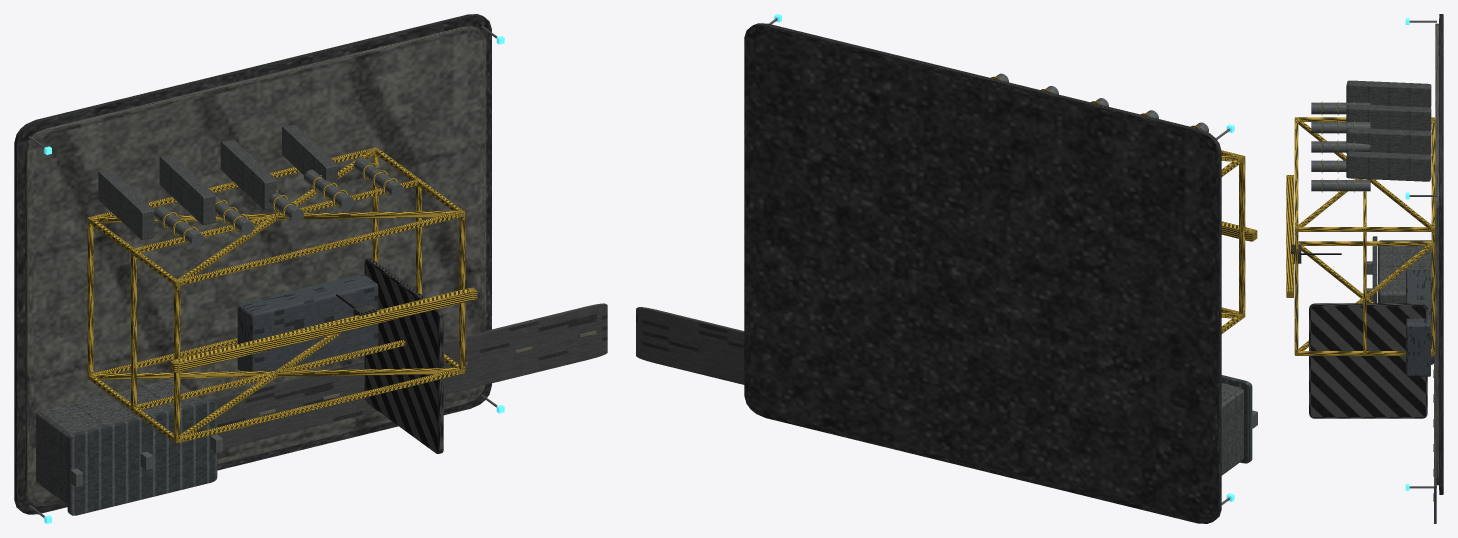
Rendered from b-15-vehicle-factory-lod0.glb.
3 renders of one model, left to right at view 1: azimuth 30°, elevation 25°; view 2: azimuth 150°, elevation 25°; view 3: azimuth 270°, elevation 25°, orthographic. The views are drawn at different scales.
Parts seen in each view (by area): view 1: foundation_inner_pad, factory_exit_road, foundation, parts_store_roof, factory_door, visible_vehicle_chassis, parts_store_main_hall, bridge_crane_bridge, factory_buttress_1, factory_buttress_0, bridge_crane_brace_a_-3, factory_buttress_2 (+20 smaller); view 2: foundation, factory_exit_road, parts_store_main_hall, bridge_crane_beam_y_2_w, parts_store_roof; view 3: factory_door, foundation, visible_vehicle_chassis, factory_buttress_3, parts_store_main_hall, factory_buttress_0, factory_buttress_1, factory_buttress_2, foundation_inner_pad, bridge_crane_bridge, factory_exhaust_4_stack, bridge_crane_column_e_n (+18 smaller).
Part boxes in pixels (box(x1,y1,x2,y2)): foundation_inner_pad: box(25, 26, 486, 506); factory_exit_road: box(204, 303, 607, 448); foundation: box(14, 14, 491, 514); parts_store_roof: box(67, 400, 217, 515); factory_door: box(364, 258, 443, 453); visible_vehicle_chassis: box(237, 273, 378, 371); parts_store_main_hall: box(36, 378, 204, 505); bridge_crane_bridge: box(170, 287, 477, 372); factory_buttress_1: box(159, 154, 215, 224); factory_buttress_0: box(98, 169, 154, 239); bridge_crane_brace_a_-3: box(94, 368, 458, 379); factory_buttress_2: box(220, 139, 276, 209); foundation: box(744, 23, 1221, 523); factory_exit_road: box(636, 307, 744, 384); parts_store_main_hall: box(1221, 383, 1243, 475); bridge_crane_beam_y_2_w: box(1239, 155, 1245, 314); parts_store_roof: box(1221, 375, 1252, 463); factory_door: box(1309, 303, 1427, 418); foundation: box(1439, 14, 1443, 494); visible_vehicle_chassis: box(1406, 270, 1430, 376); factory_buttress_3: box(1346, 151, 1431, 181); parts_store_main_hall: box(1378, 240, 1431, 303); factory_buttress_0: box(1346, 80, 1431, 107); factory_buttress_1: box(1346, 104, 1431, 131); factory_buttress_2: box(1346, 127, 1431, 154); foundation_inner_pad: box(1435, 23, 1438, 485); bridge_crane_bridge: box(1286, 175, 1293, 297); factory_exhaust_4_stack: box(1311, 180, 1370, 191); bridge_crane_column_e_n: box(1298, 227, 1431, 231).
Size of what is drawn, in the model's own units: 23.5 by 15 by 6.9.
12 materials, 12 textured.
